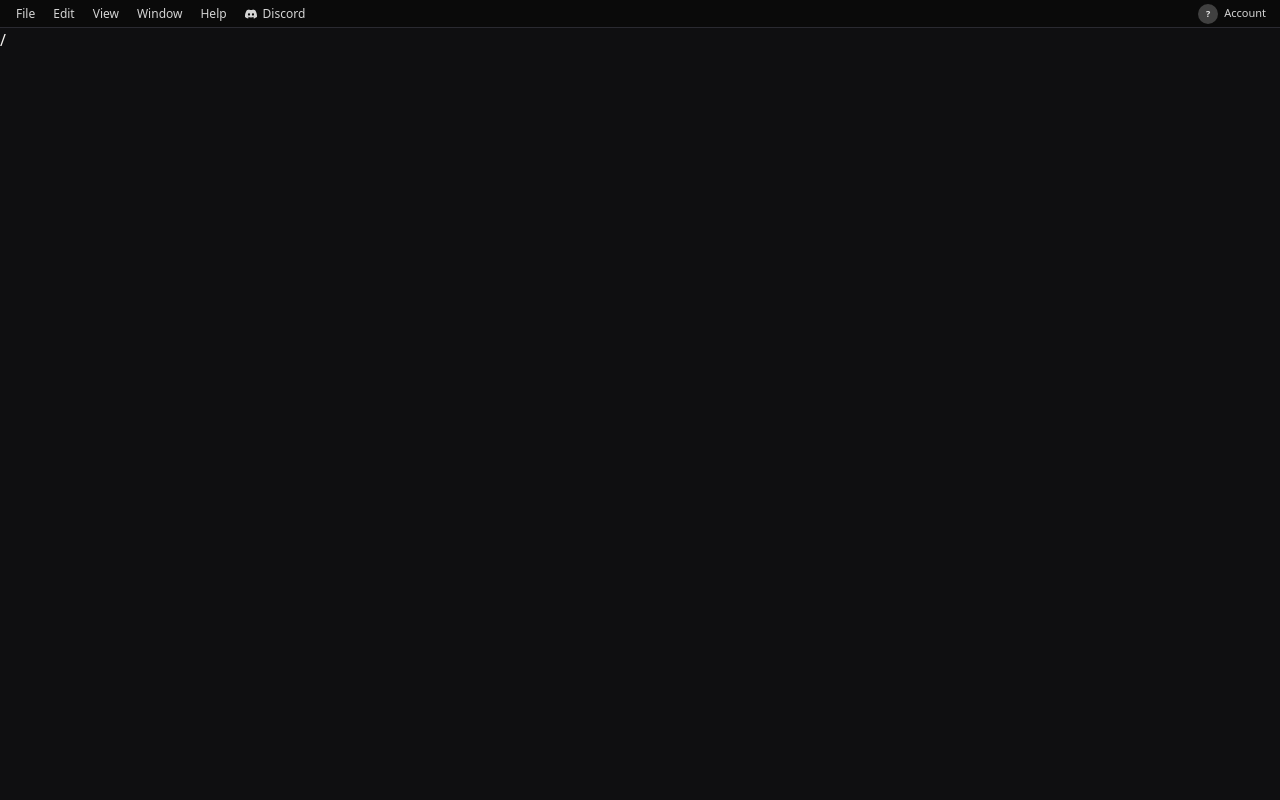
MenuBar › creates a project via File → New
This screenshot has width=1280, height=800.
Click the button "File": (26, 14) [8,2,43,24]
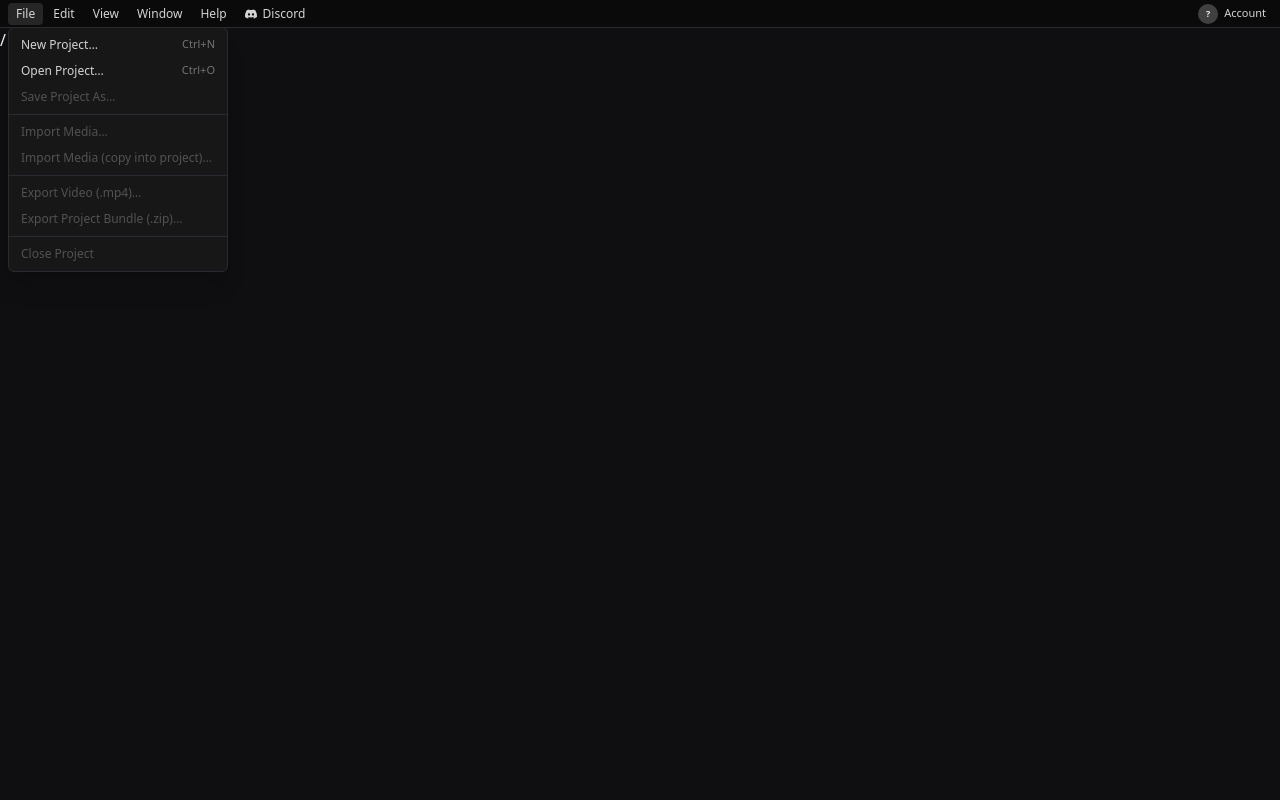
Click the text "New Project…": (59, 44) [21,36,98,54]
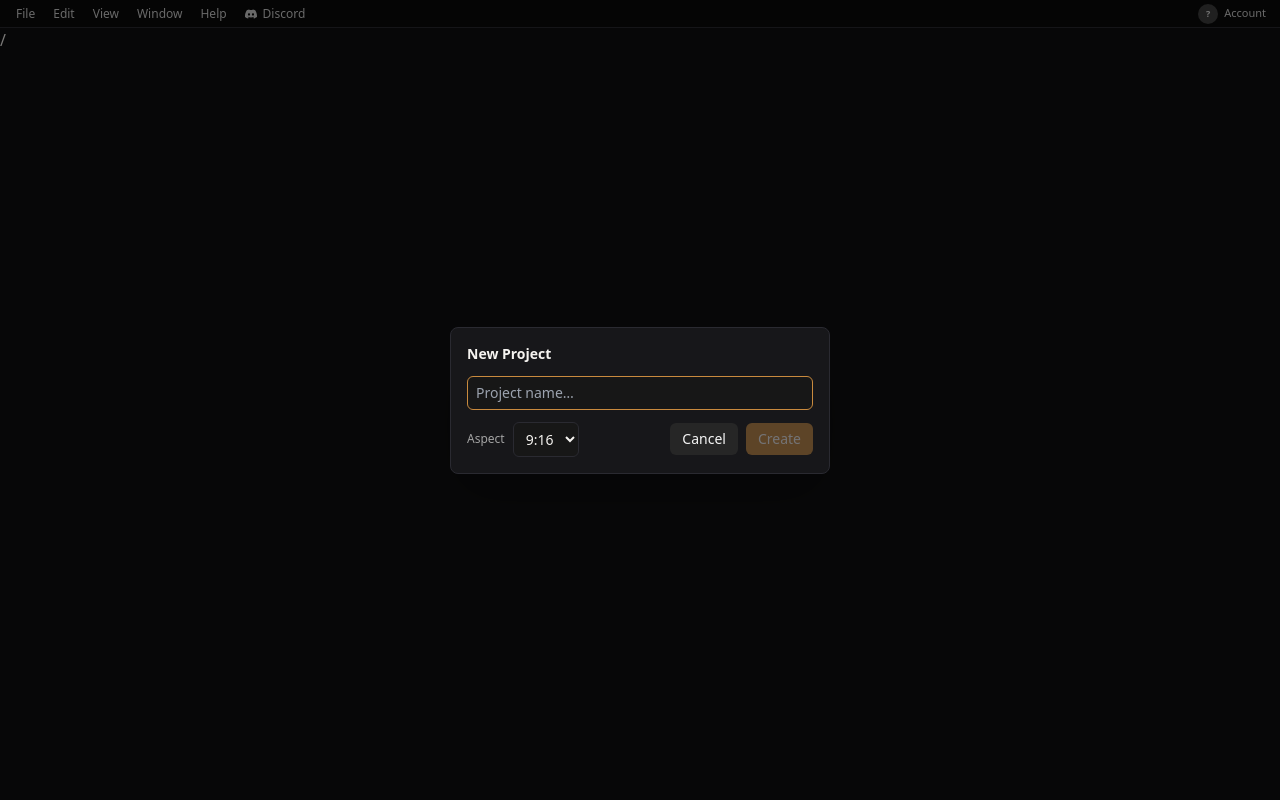
In the field with placeholder "Project name…": (640, 392) [467,376,813,410], type "Reel"
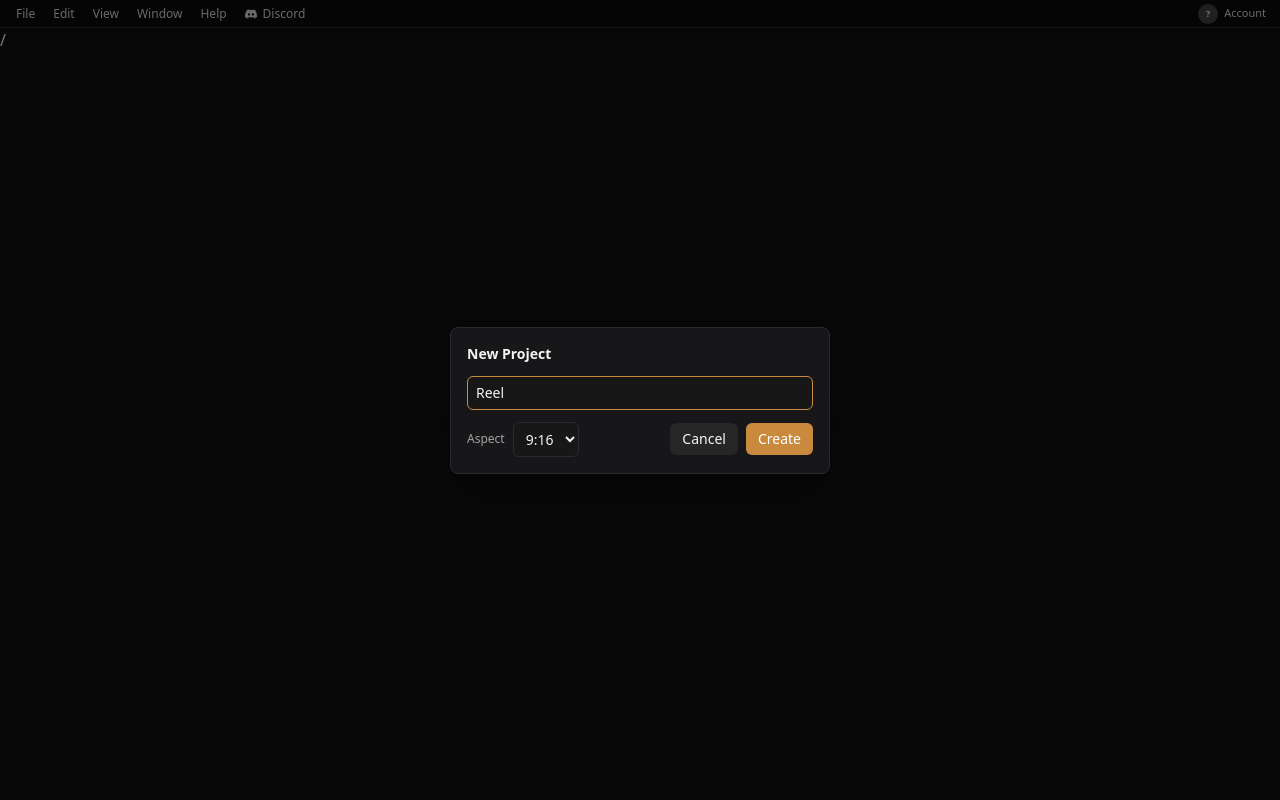
Click the button "Create": (779, 439) [746,423,813,455]
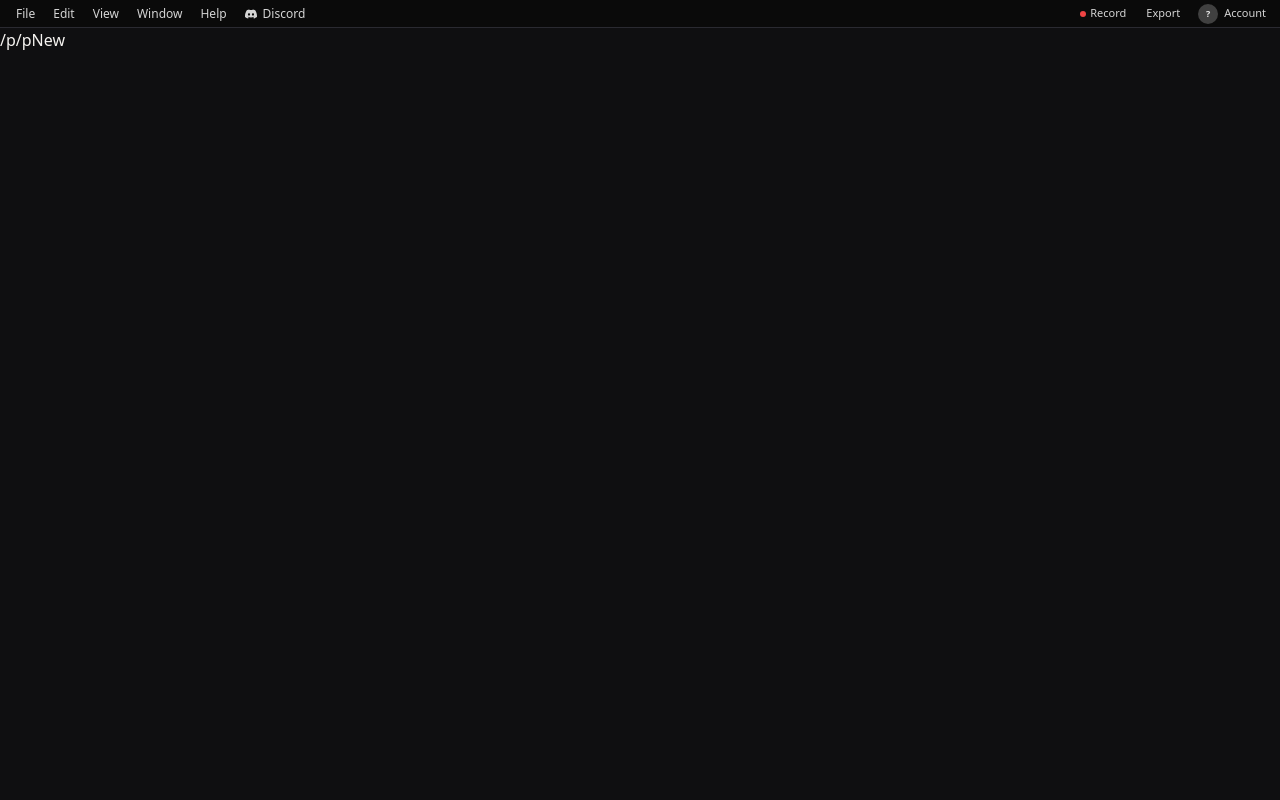
Expected: the text with test id "loc" reads "/p/pNew", [0,29,65,51]
